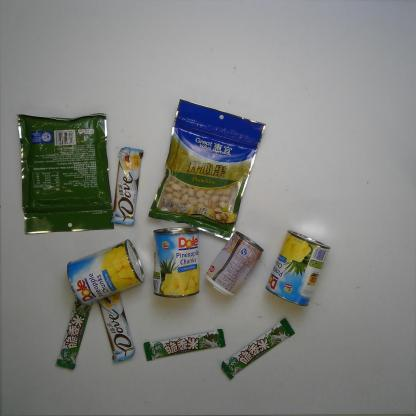Canned Food: (66, 238, 145, 306), (265, 230, 331, 307), (204, 231, 264, 297), (152, 227, 201, 298)
Chocolate: (220, 318, 295, 379), (143, 328, 226, 362), (97, 292, 136, 363), (55, 298, 93, 370), (110, 146, 144, 226)
Dried Fruit: (148, 99, 266, 241), (16, 113, 114, 234)
